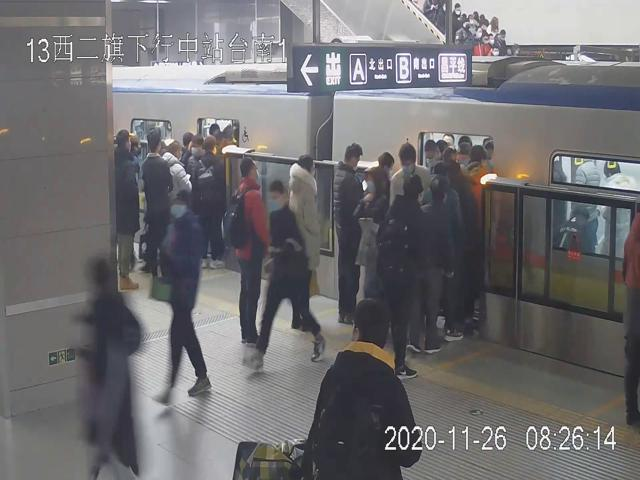person: (383, 175, 427, 383), (232, 156, 269, 347), (288, 155, 322, 333), (332, 141, 365, 322), (142, 129, 174, 283), (196, 137, 224, 268)
